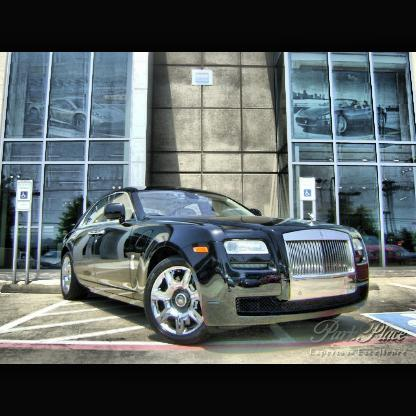Rolls-Royce Ghost Sedan 2012: (57, 188, 369, 343)
